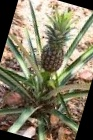Pineapple: (40, 9, 74, 73)
